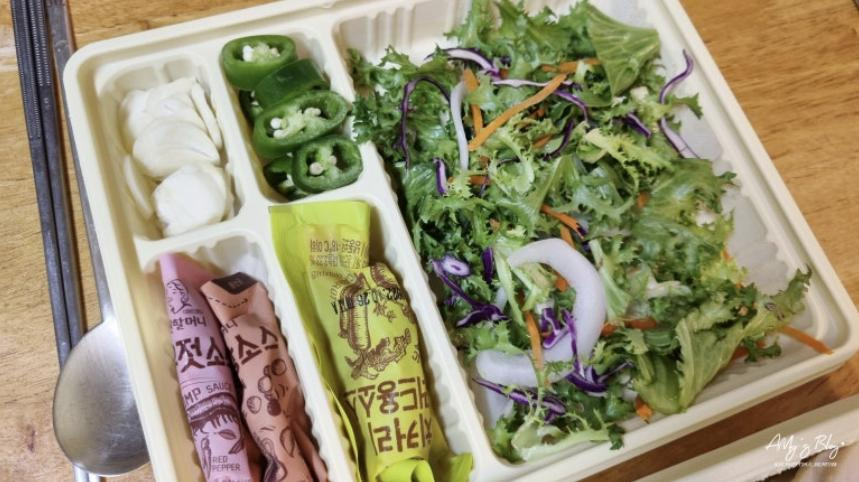Lunch Box: (64, 0, 858, 481)
